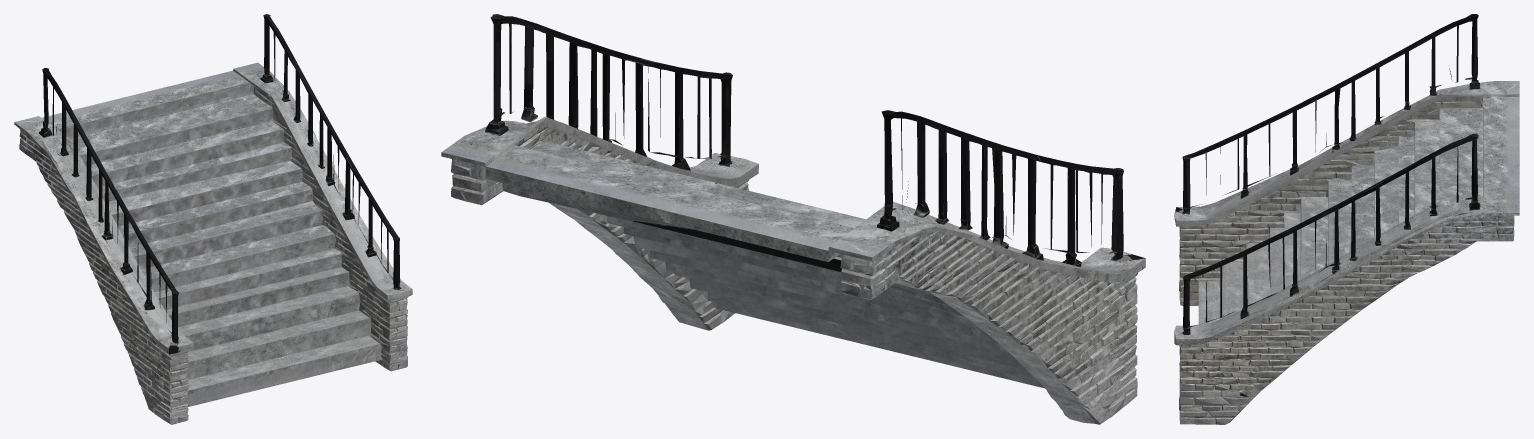
Rendered from stone_stairs.glb.
3 renders of one model, left to right at view 1: azimuth 30°, elevation 25°; view 2: azimuth 150°, elevation 25°; view 3: azimuth 270°, elevation 25°, orthographic. The views are drawn at different scales.
Size of the model in its own units: 1.73 by 1.74 by 1.9.
1 material, 1 textured.
